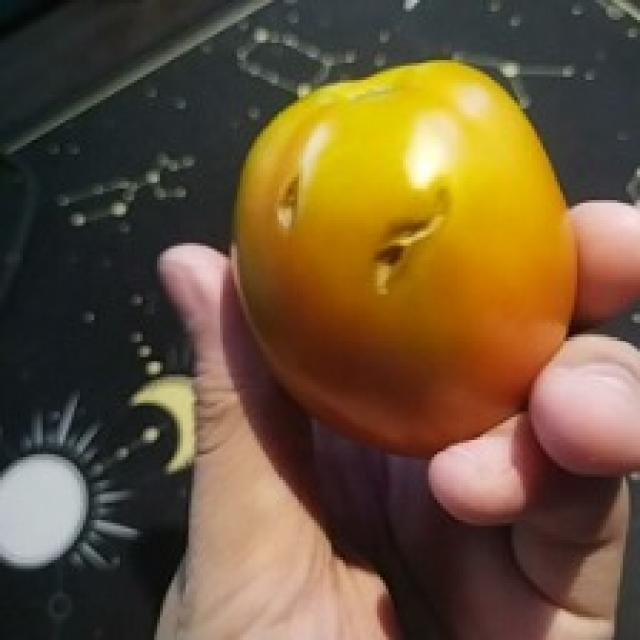Rotten Tomato: (225, 55, 569, 455)
